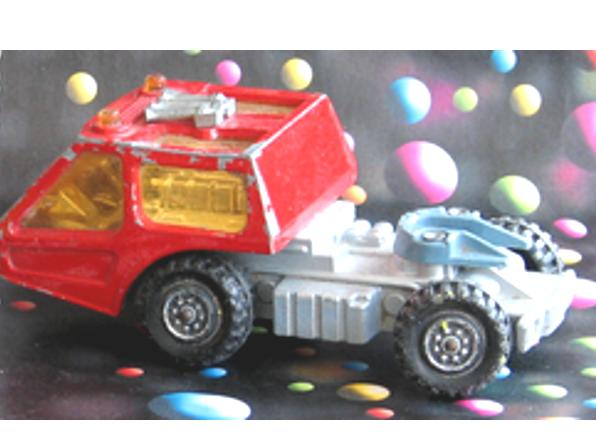toy-car: (0, 70, 579, 403)
